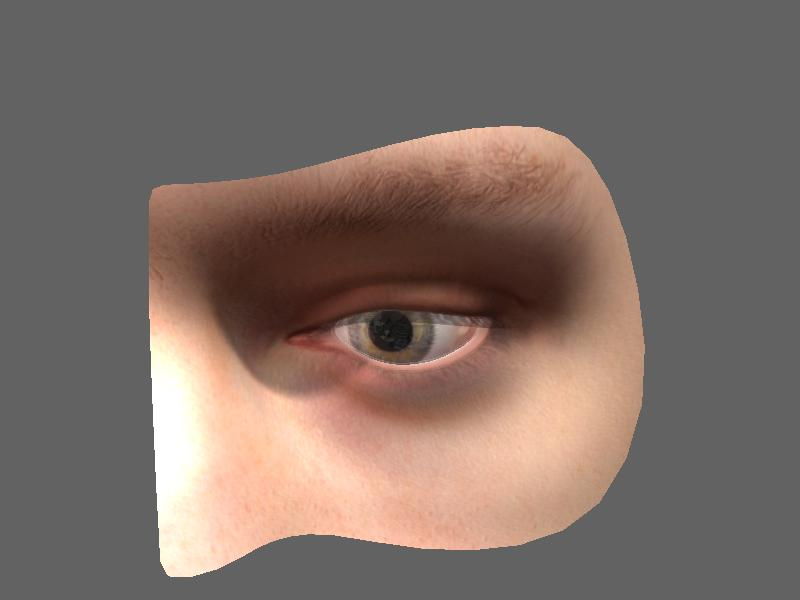iris: (339, 303, 446, 364)
